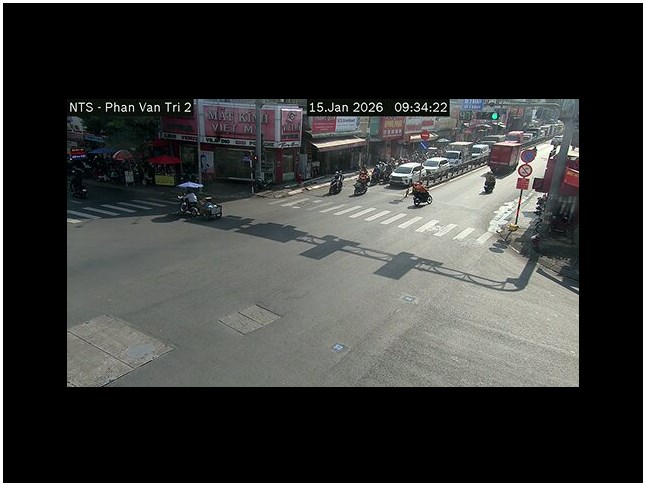car: (389, 162, 424, 186), (424, 158, 450, 174), (471, 144, 491, 162)
motorbike: (178, 189, 223, 220), (409, 181, 433, 208), (328, 170, 343, 195), (351, 178, 368, 196)
